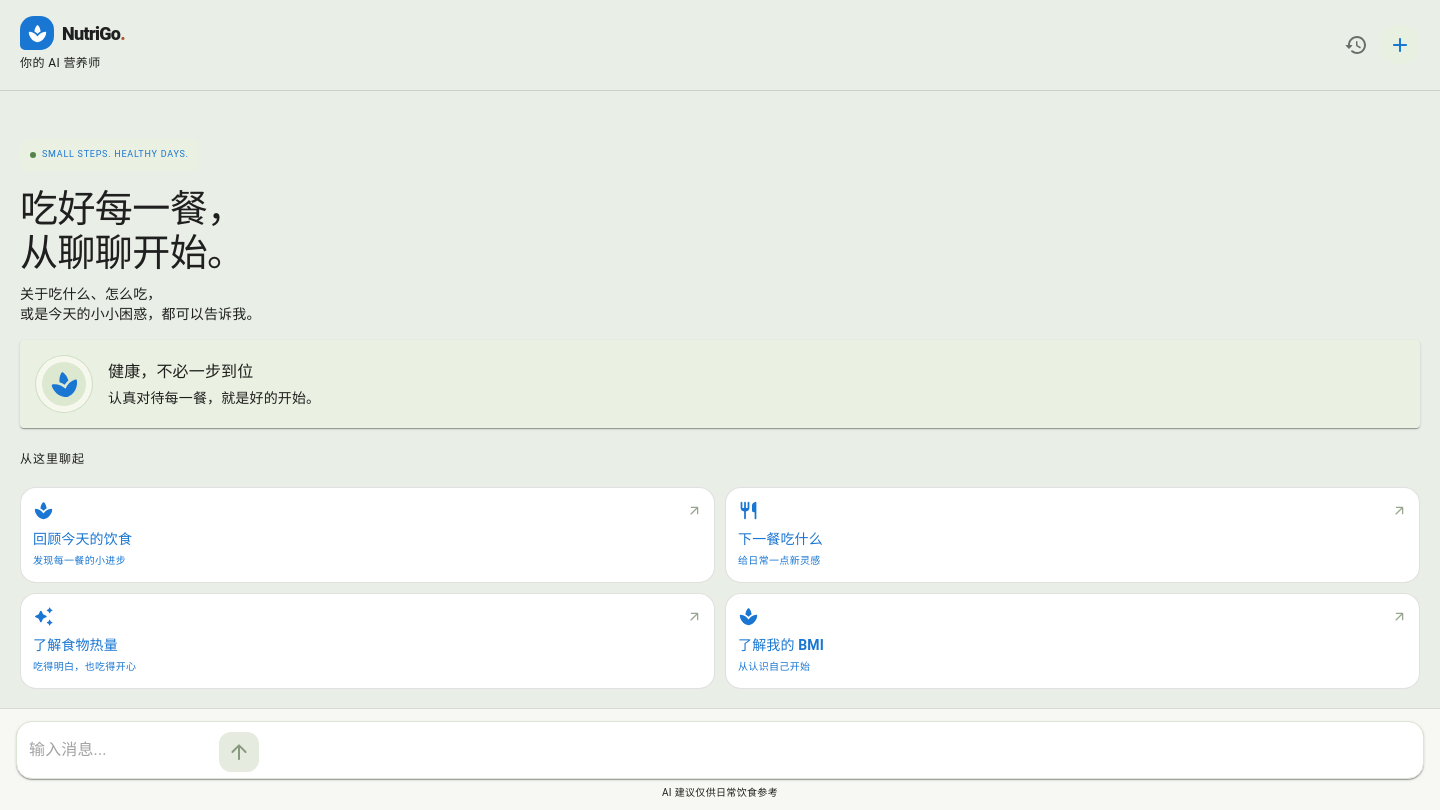
Test: Chat 页面 › 流式 chunk 实时累积 assistant 回复
Type "你好" into the text box with placeholder "输入消息..." at (120, 750), box [29,728,211,772]
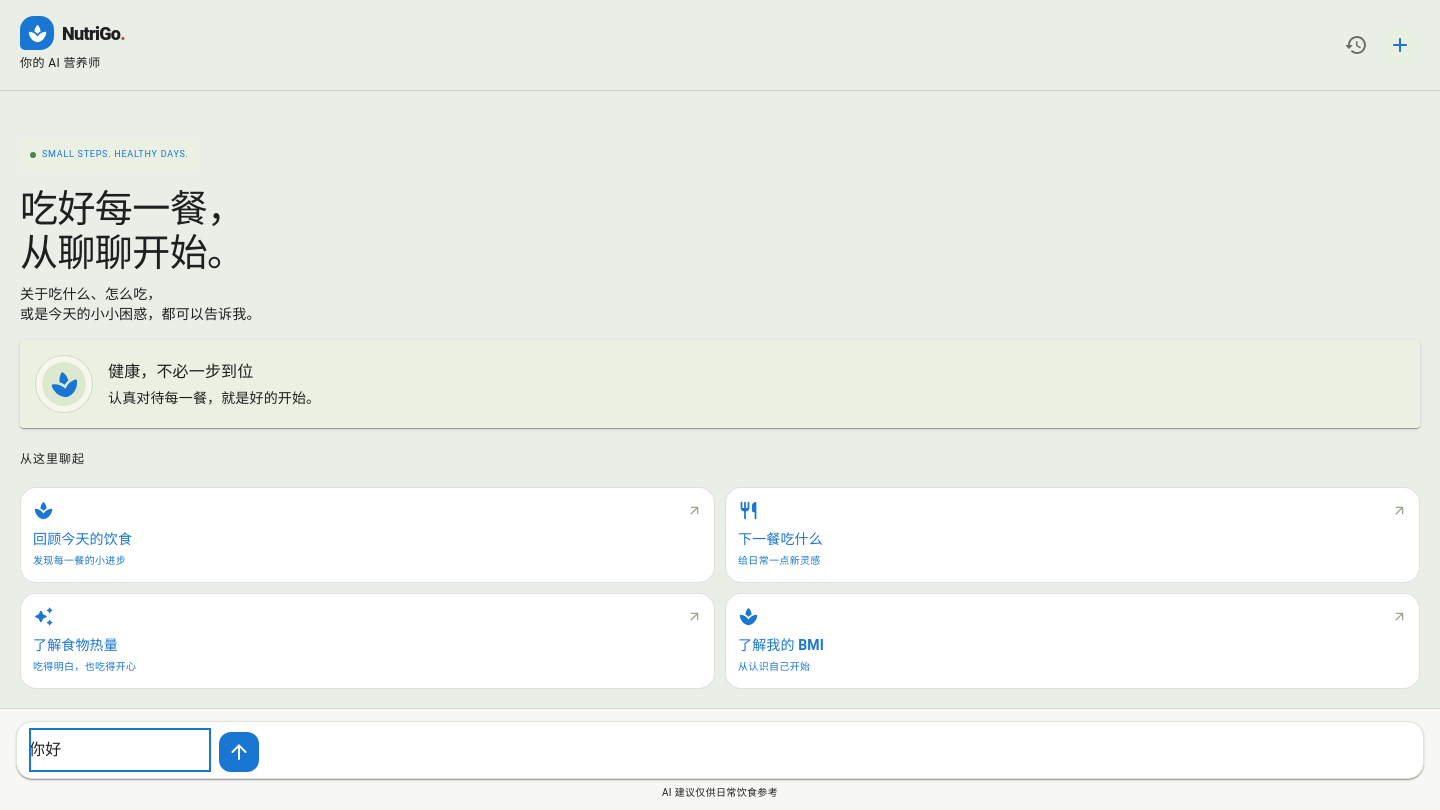
Click the button named "发送" at (239, 752), box [219,732,259,772]
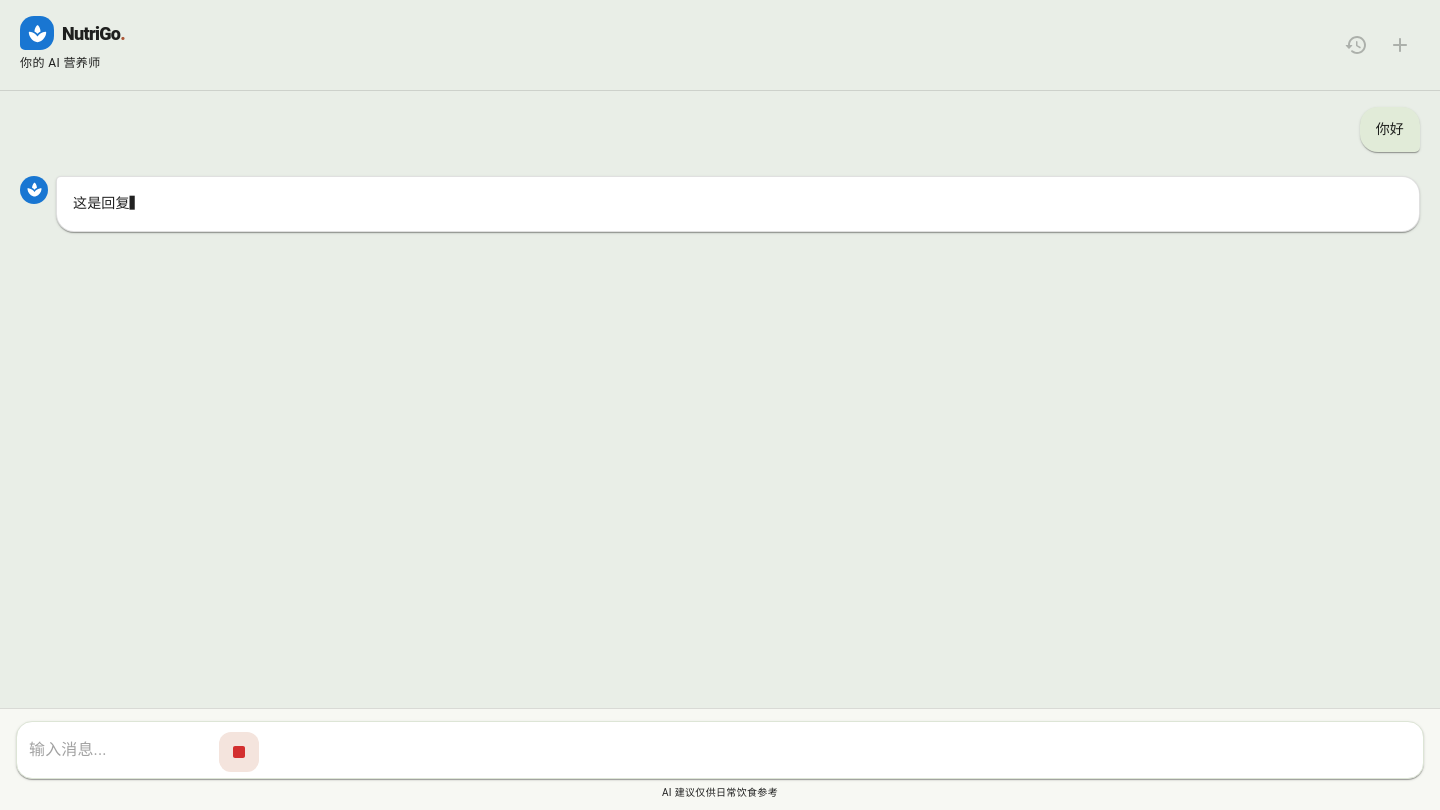
Now the text "这是回复▍" is shown, box [73,195,144,211]
